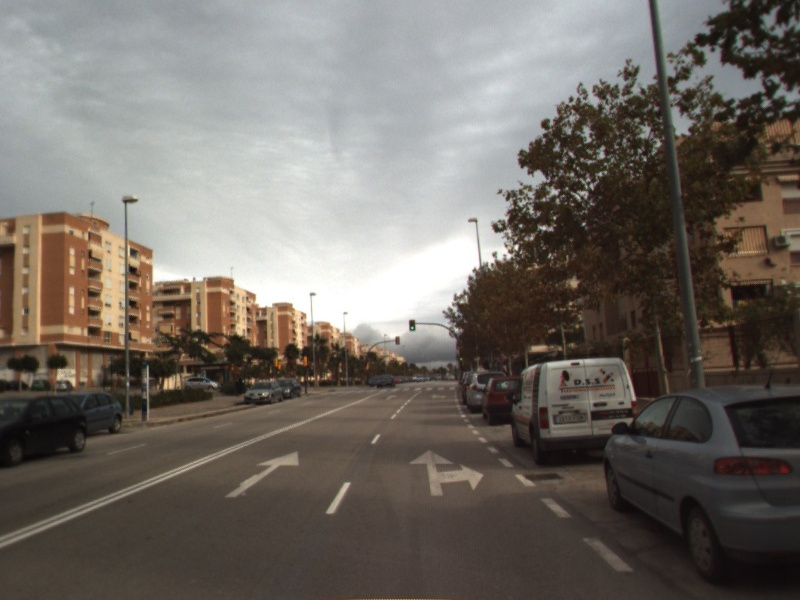STRAIGHT: (223, 449, 301, 499)
STRAIGHT_RIGHT: (407, 448, 486, 498)
